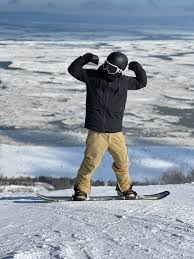snowboarder: (37, 34, 172, 204)
